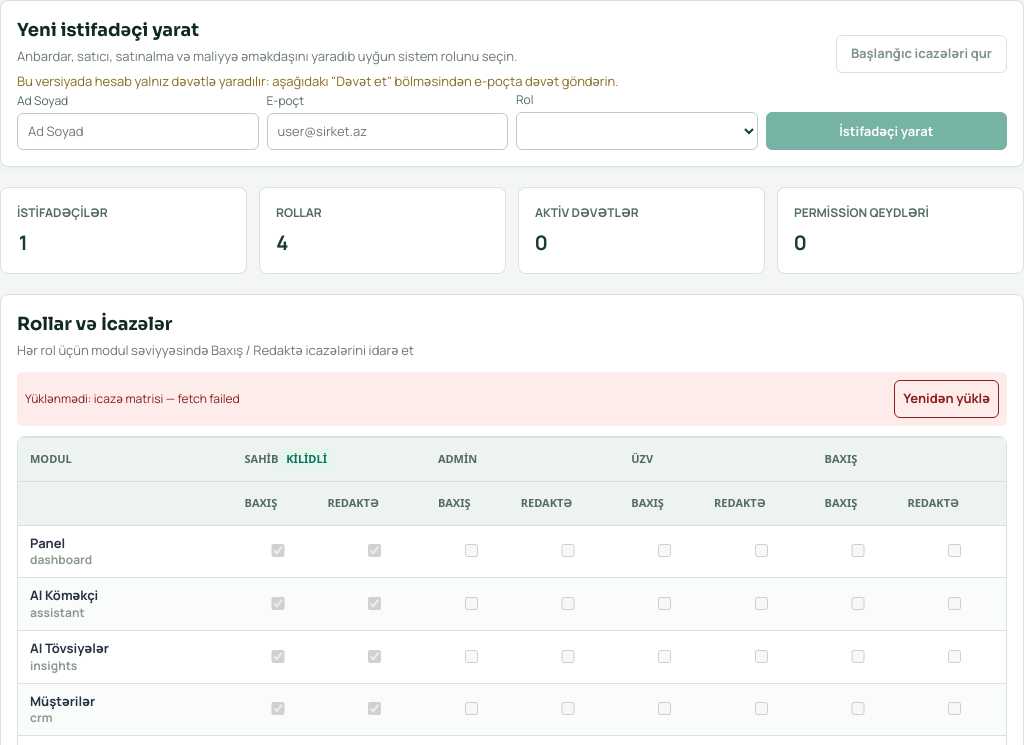
Test case: permission toggles stay off until the matrix has loaded, and retry recovers
Expected: the message shows "icazə matrisi", [25, 390, 240, 407]
Click the button "Yenidən yüklə".
click(947, 398)  # box [894, 380, 999, 418]
(page scrolled)
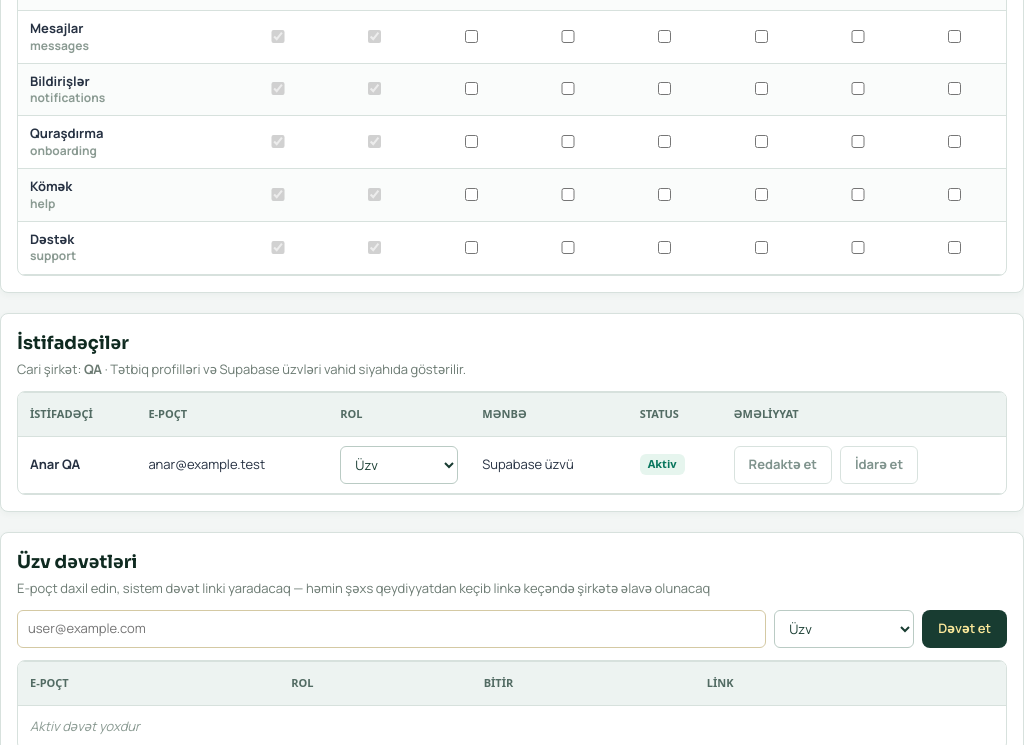
Expected: the text "Anar QA" is shown, [18, 436, 136, 493]
Expected: the message "Yüklənmədi: icazə matrisi — fetch failed Yenidən yüklə" is gone
